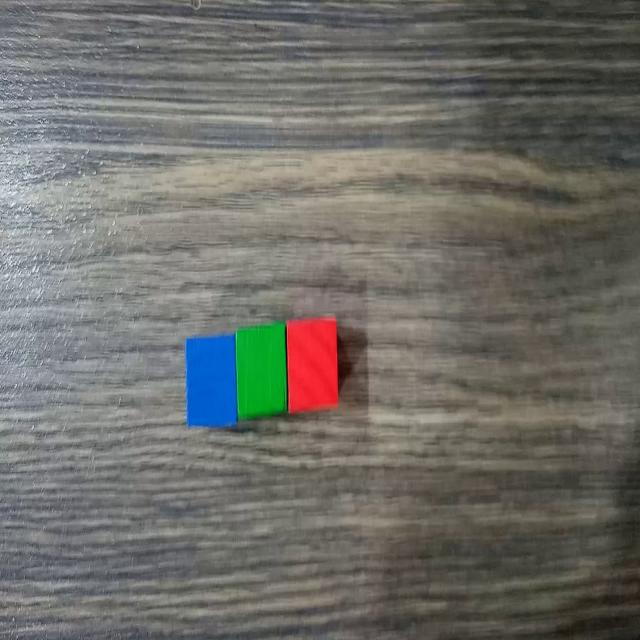cube: (182, 326, 237, 435), (287, 313, 341, 417), (235, 319, 286, 426)
